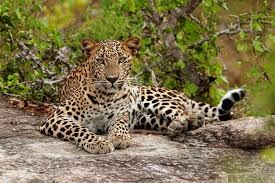leopard: (37, 34, 248, 157)
